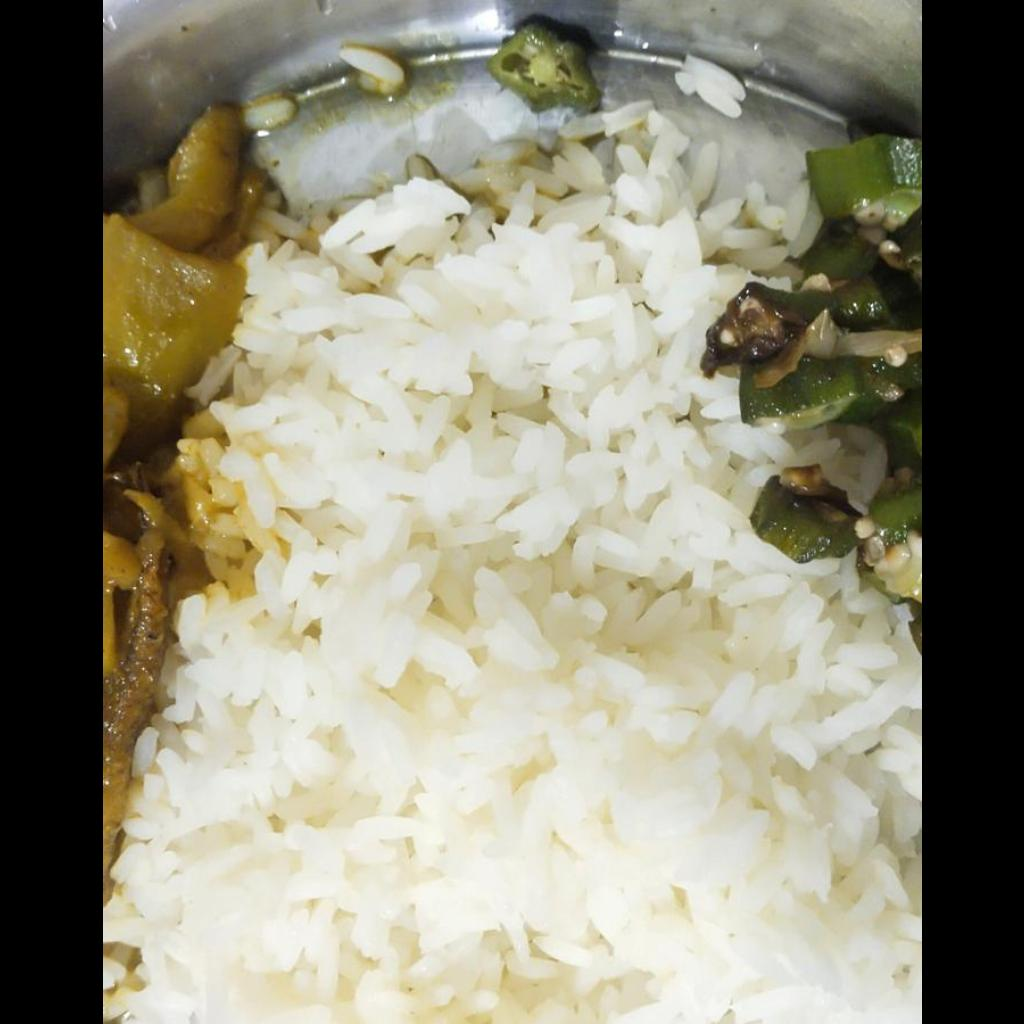okra: (709, 140, 920, 609)
rice: (102, 101, 920, 1022)
